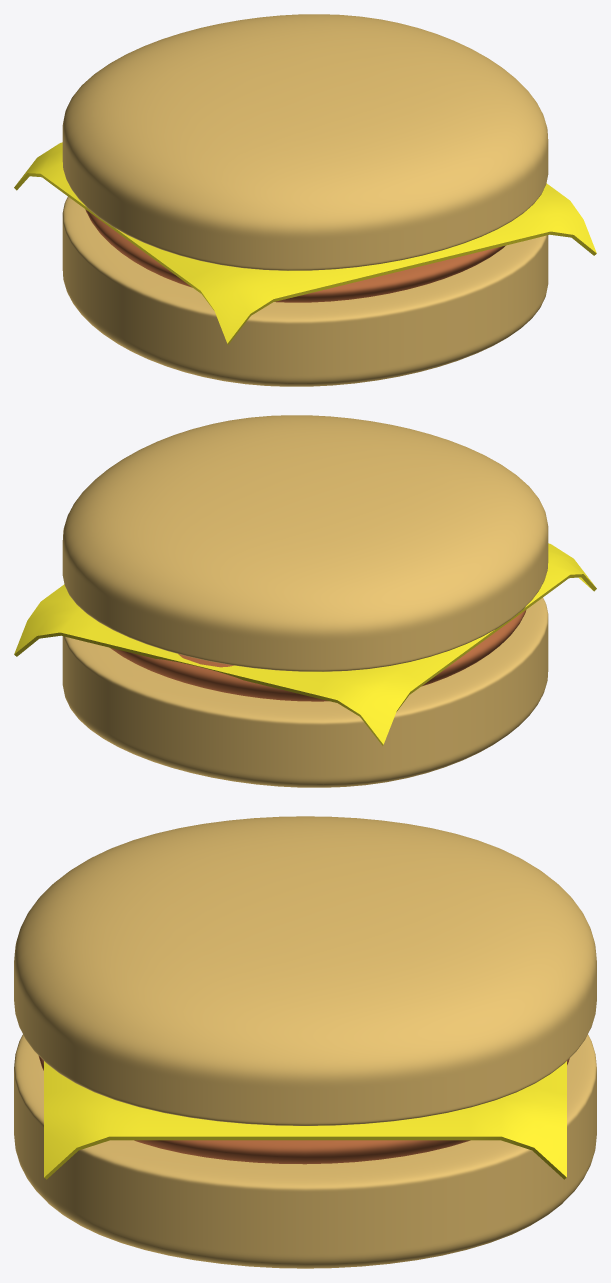
The model's file is hamburger.glb.
3 renders of one model, top to bottom at view 1: azimuth 30°, elevation 25°; view 2: azimuth 150°, elevation 25°; view 3: azimuth 270°, elevation 25°, orthographic. The views are drawn at different scales.
Visible parts, largest first — view 1: Cube.002, Cube, Plane, Cube.001; view 2: Cube.002, Cube, Plane, Cube.001; view 3: Cube.002, Cube, Plane, Cube.001.
Part boxes in pixels (x1=…): Cube.002: x1=62, y1=14, x2=548, y2=270; Cube: x1=62, y1=197, x2=548, y2=386; Plane: x1=14, y1=142, x2=596, y2=344; Cube.001: x1=85, y1=209, x2=505, y2=302; Cube.002: x1=62, y1=415, x2=548, y2=671; Cube: x1=62, y1=598, x2=548, y2=787; Plane: x1=14, y1=543, x2=596, y2=745; Cube.001: x1=110, y1=610, x2=526, y2=701; Cube.002: x1=14, y1=816, x2=596, y2=1125; Cube: x1=14, y1=1034, x2=596, y2=1268; Plane: x1=44, y1=1061, x2=566, y2=1179; Cube.001: x1=38, y1=1055, x2=569, y2=1164.
Bounding box in the file's own units: 9.16 × 4.78 × 9.16.
